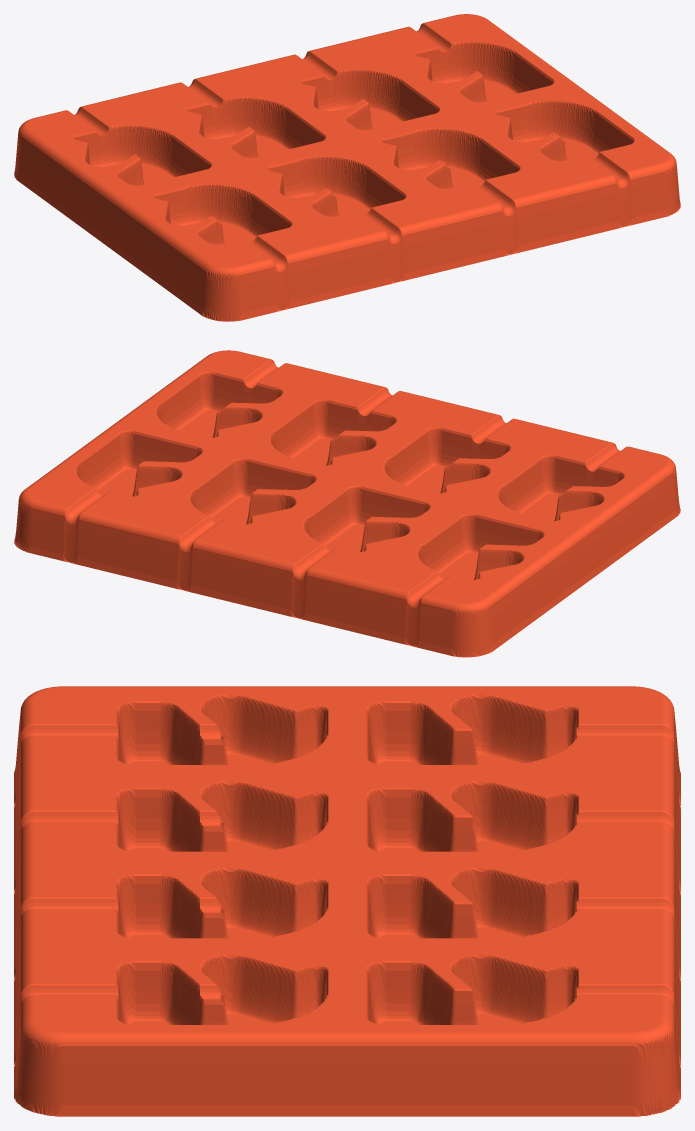
Rendered from mold.glb.
The picture shows the model from 3 angles, top to bottom: view 1: azimuth 30°, elevation 25°; view 2: azimuth 150°, elevation 25°; view 3: azimuth 270°, elevation 25°; orthographic projection. The views are drawn at different scales.
Parts seen in each view (by area): view 1: geometry_0; view 2: geometry_0; view 3: geometry_0.
Boxes of the visible parts, left/top/right/bottom form: geometry_0: left=14, top=14, right=680, bottom=321; geometry_0: left=14, top=350, right=680, bottom=657; geometry_0: left=14, top=686, right=680, bottom=1116.
Bounding box in the file's own units: 0.1574 × 0.0155 × 0.1229.
